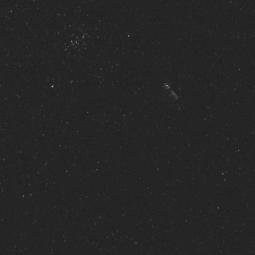debris: (150, 78, 184, 109)
